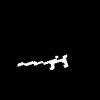double_crochet: (18, 55, 67, 69)
